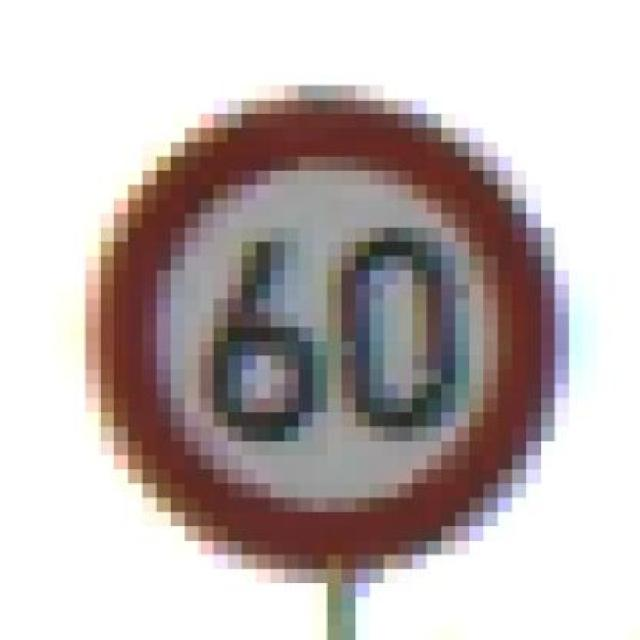forb_speed_over_60: (91, 98, 554, 559)
